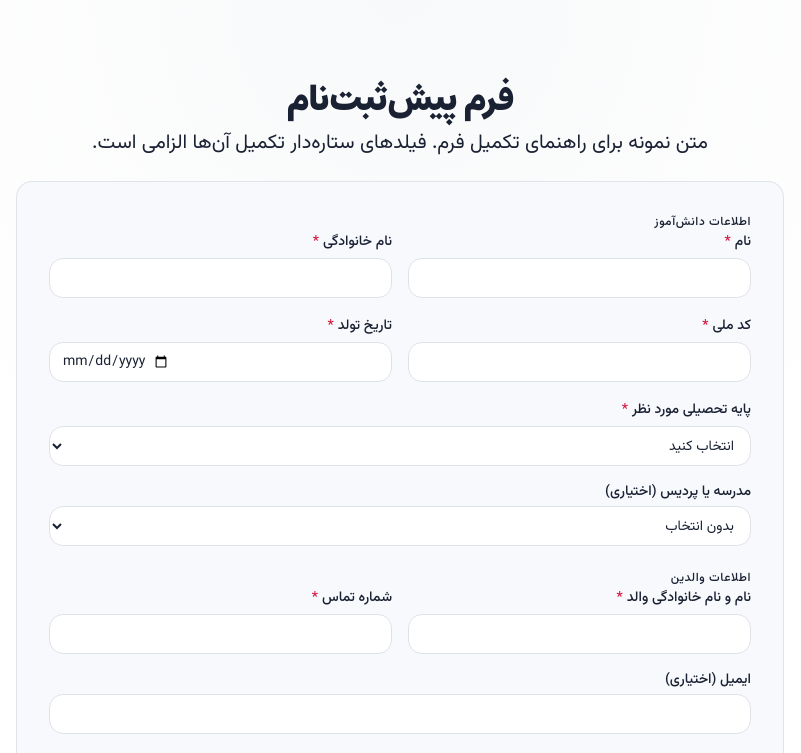
it: RegistrationForm campus selection › does not require a campus and submits null by default
In the field with id "student-first-name": point(580, 278) [408,258,751,298], type "آرمان"
In the field with id "student-last-name": point(220, 278) [49,258,392,298], type "نمونه"
In the field with id "student-national-id": point(580, 362) [408,342,751,382], type "1234567891"
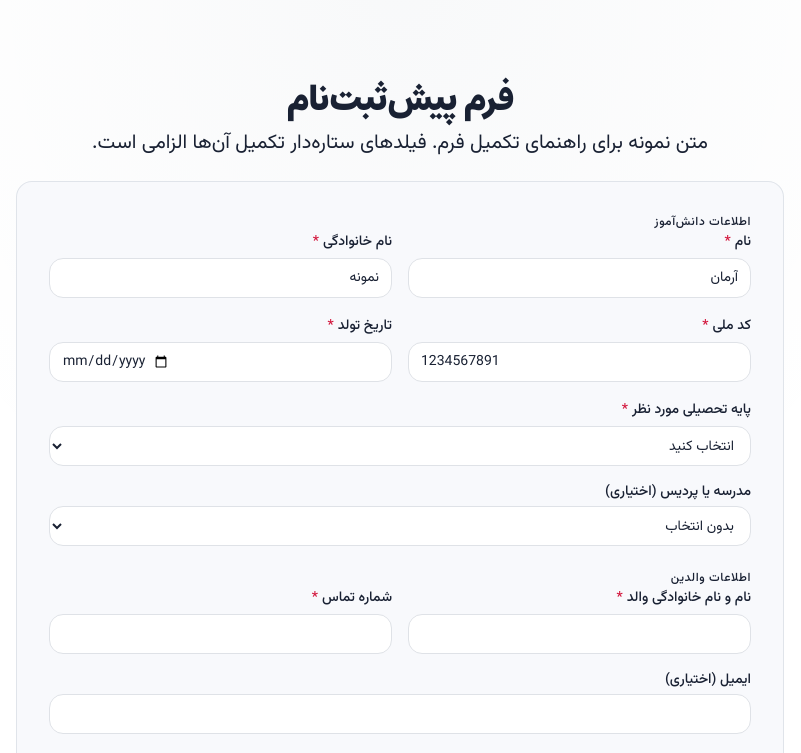
In the date field with id "student-birth-date": point(220, 362) [49,342,392,382], type "2015-01-01"
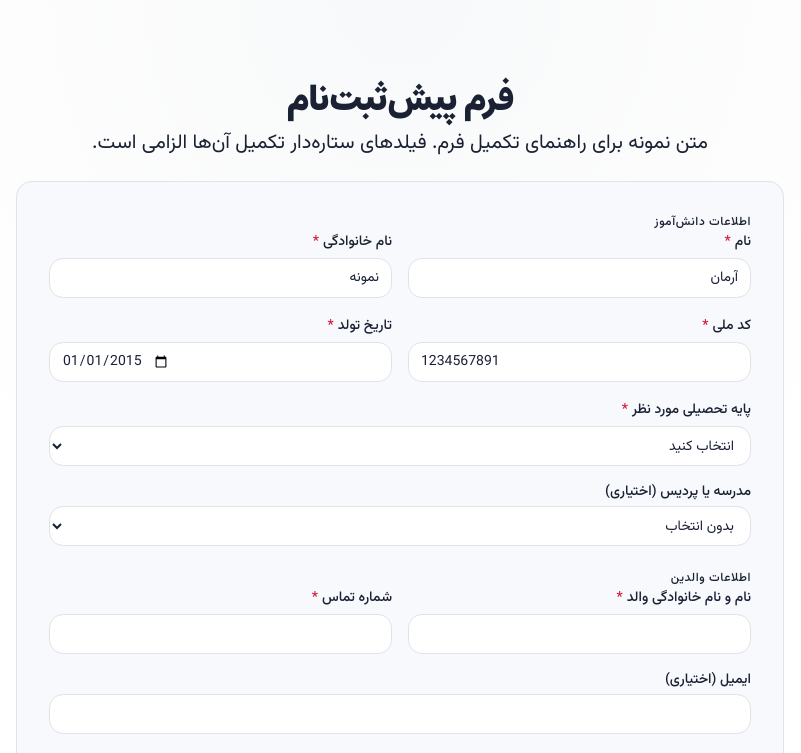
Select "پایه اول ابتدایی" in the dropdown with id "student-grade": point(400, 446) [49,426,751,466]
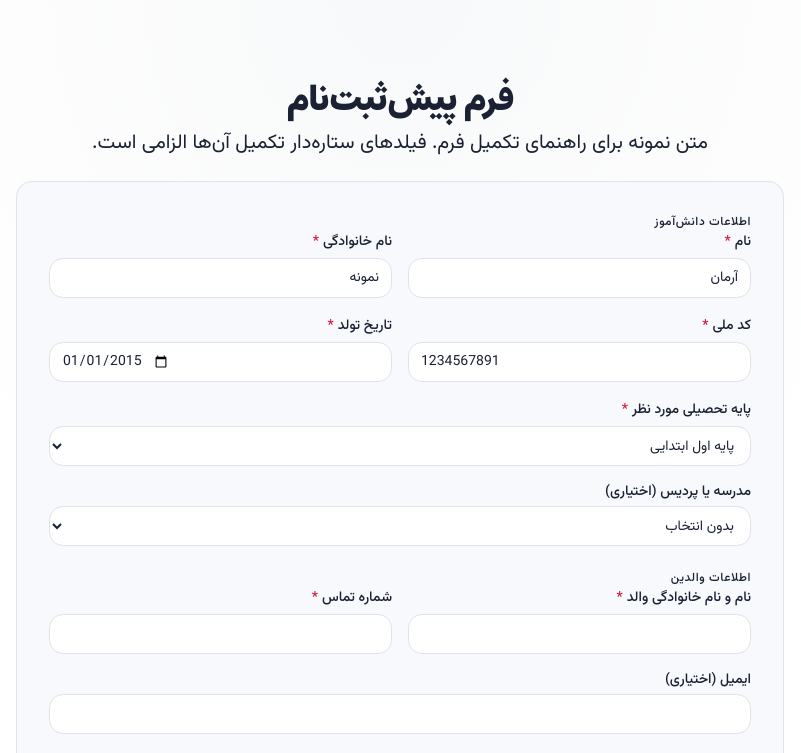
In the field with id "guardian-full-name": point(580, 634) [408,614,751,654], type "والد نمونه"
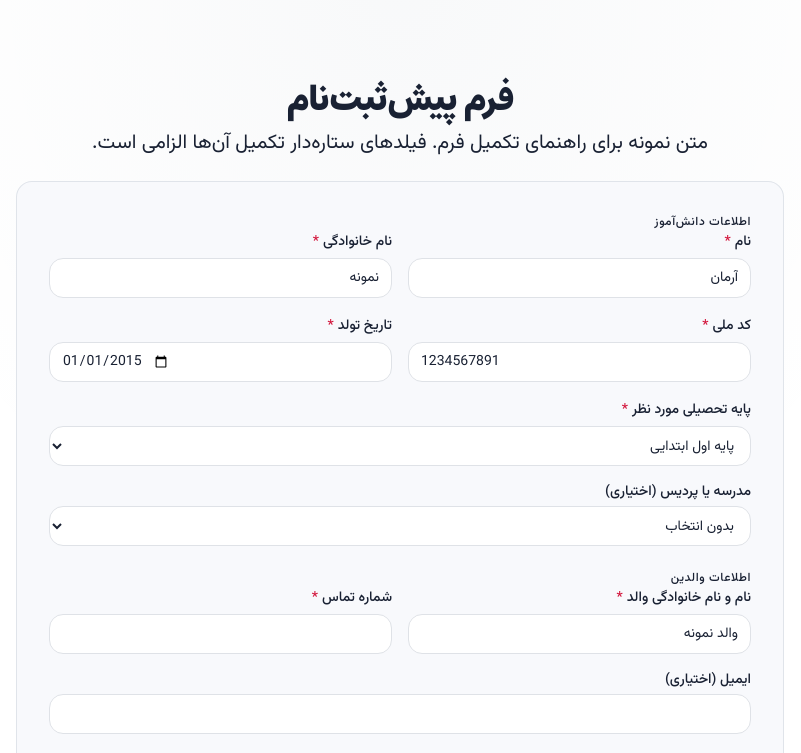
In the field with id "guardian-phone": point(220, 634) [49,614,392,654], type "09123456789"
(page scrolled)
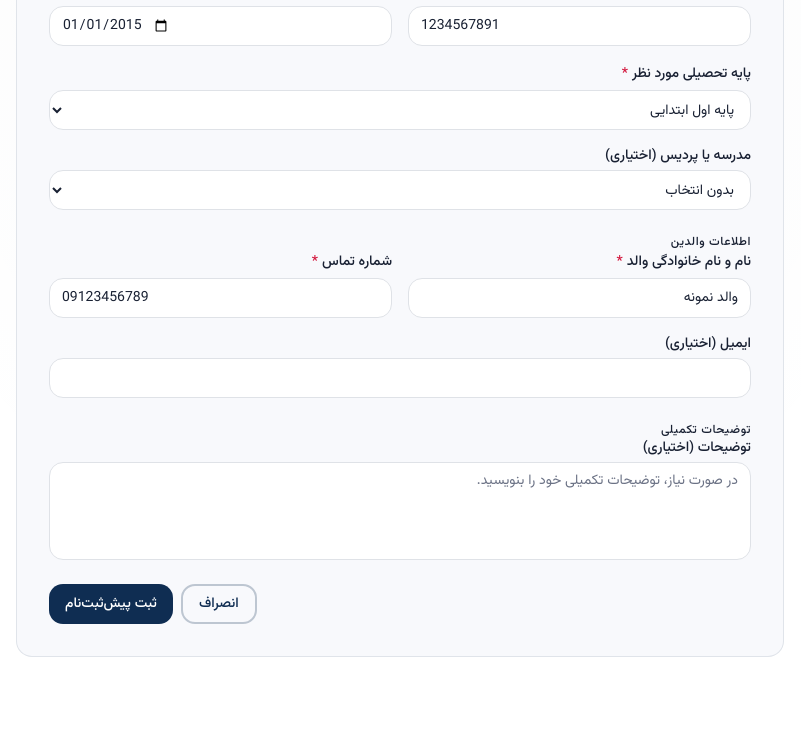
Click the button "ثبت پیش‌ثبت‌نام": point(111, 604) [49,584,173,624]
(page scrolled)
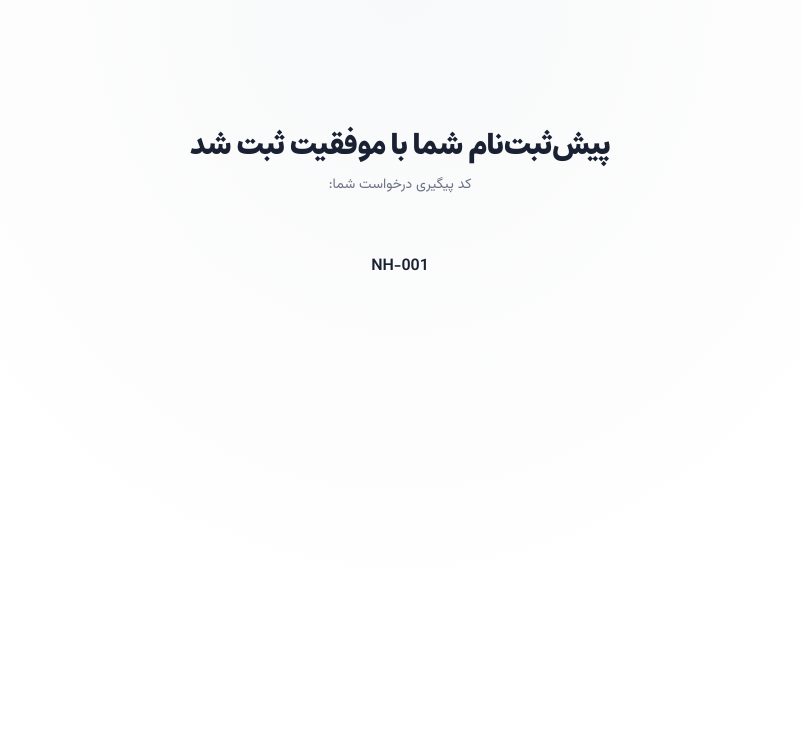
Result: the text "NH-001" is shown at [371,253,429,281]
